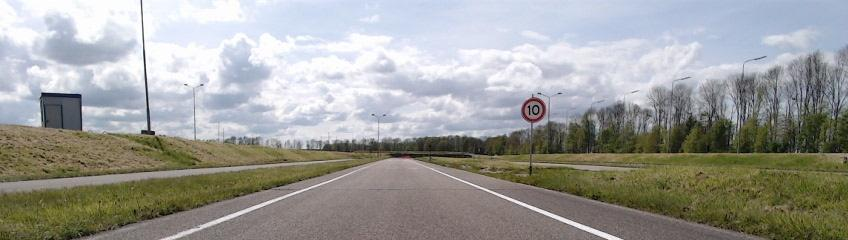Speed-limit-10km-h-: (521, 97, 546, 123)
